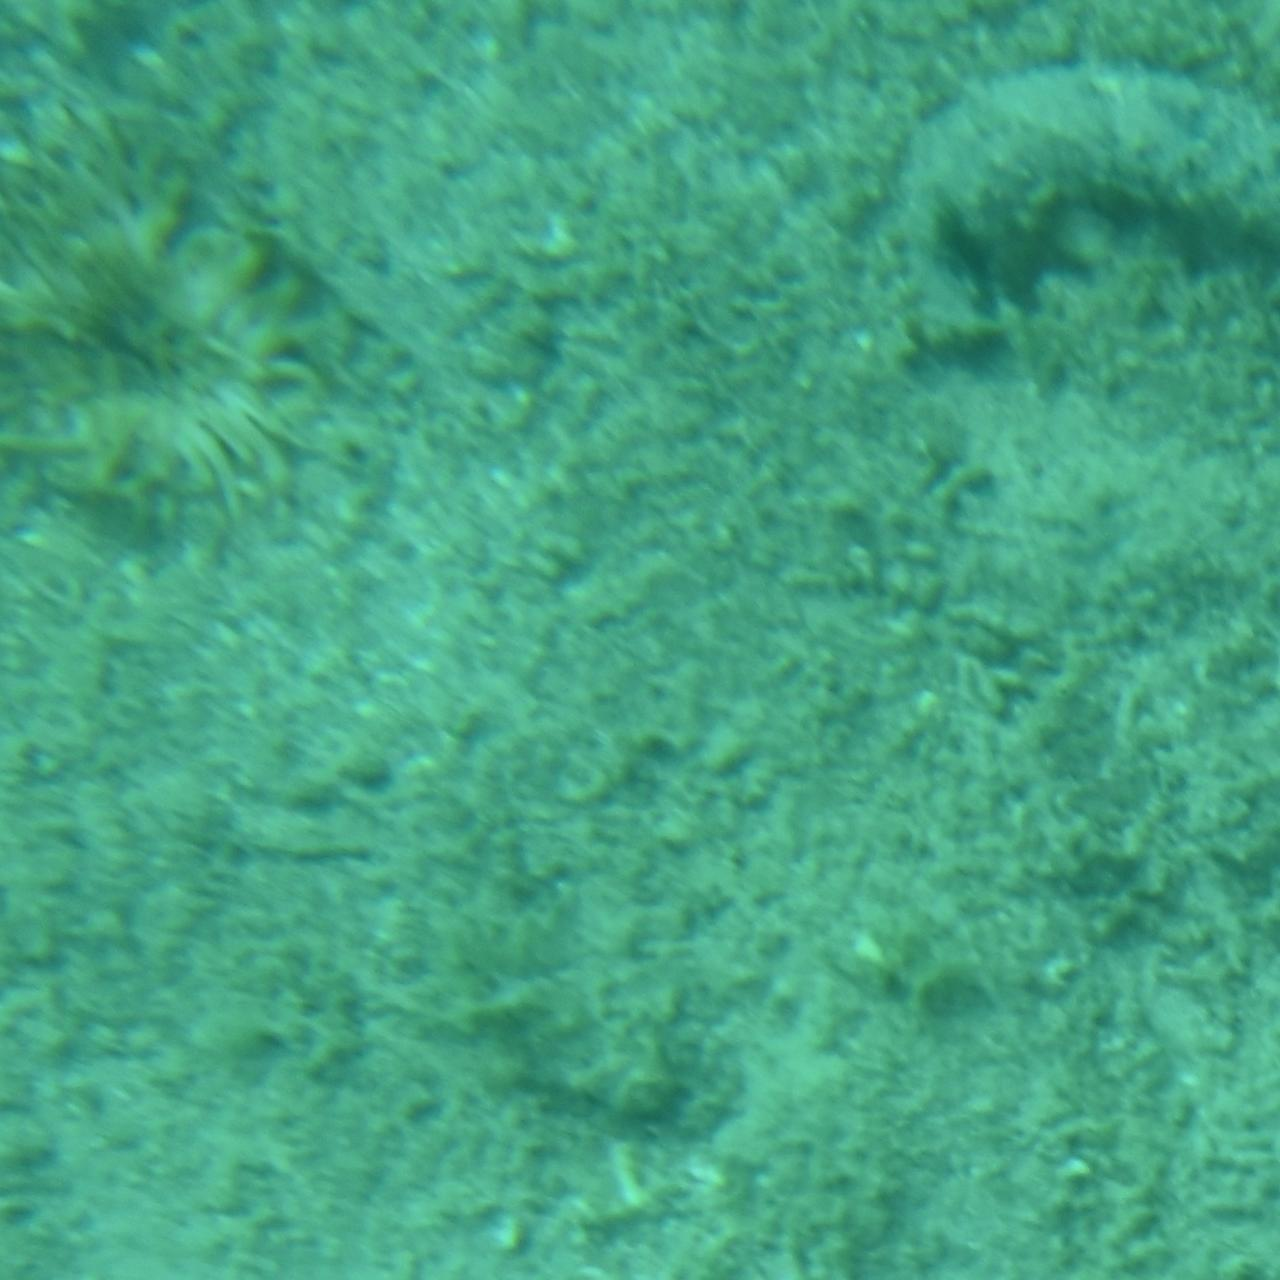Condylactis aurantiaca: (0, 110, 347, 556)
Holothuria tubulosa: (874, 55, 1280, 441)
